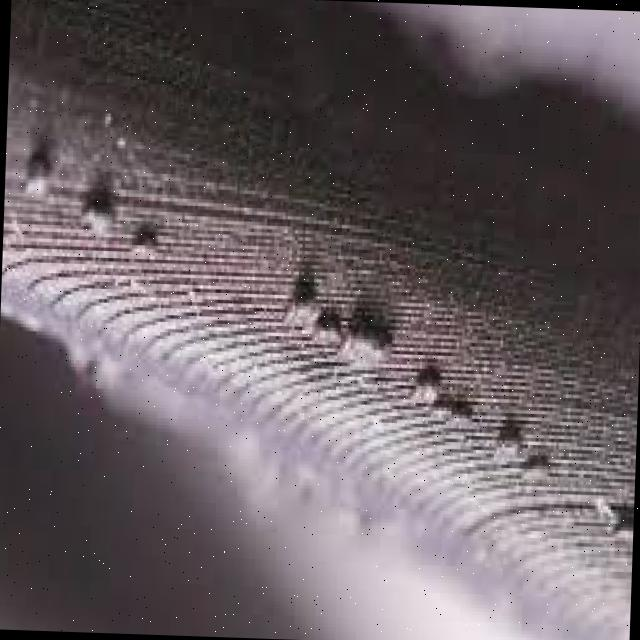blobs: (260, 260, 568, 499), (9, 133, 181, 287), (586, 481, 634, 555)
